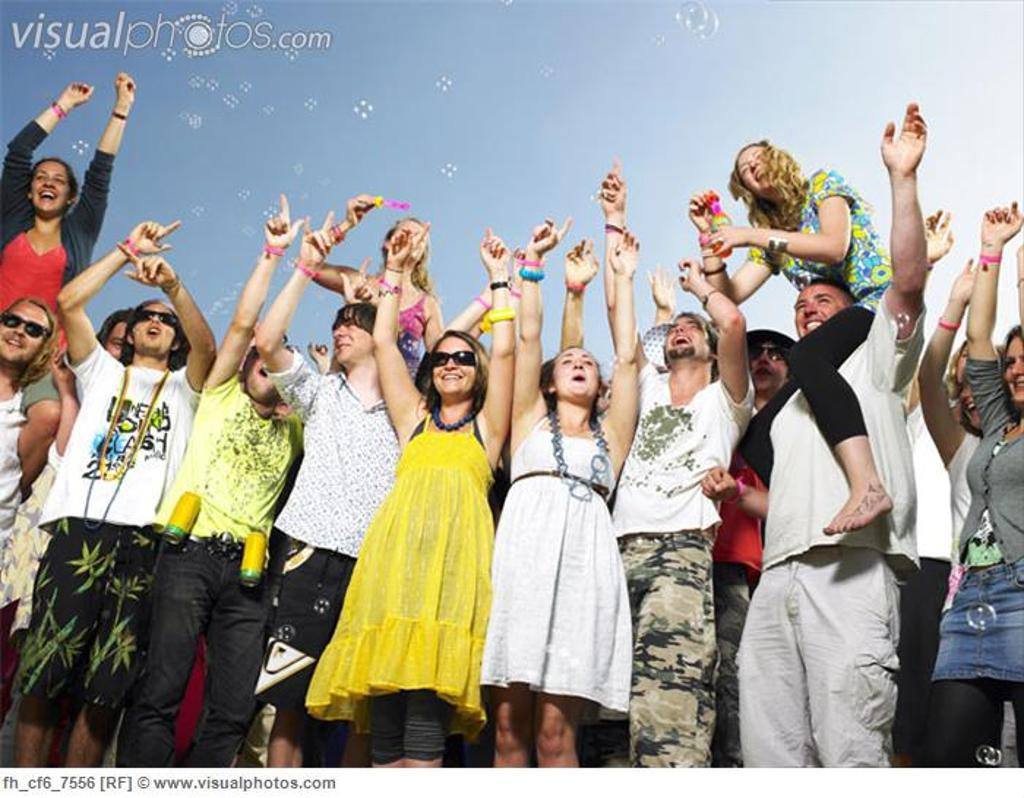face: (1, 300, 50, 365), (795, 285, 848, 340), (433, 337, 477, 397), (134, 301, 178, 352), (331, 311, 372, 365), (557, 347, 600, 398), (748, 338, 787, 394), (736, 145, 779, 195), (246, 346, 287, 397), (33, 162, 70, 214), (664, 314, 706, 359), (391, 222, 429, 267), (1002, 335, 1024, 406), (959, 380, 988, 432), (956, 338, 985, 388), (108, 323, 130, 366)
